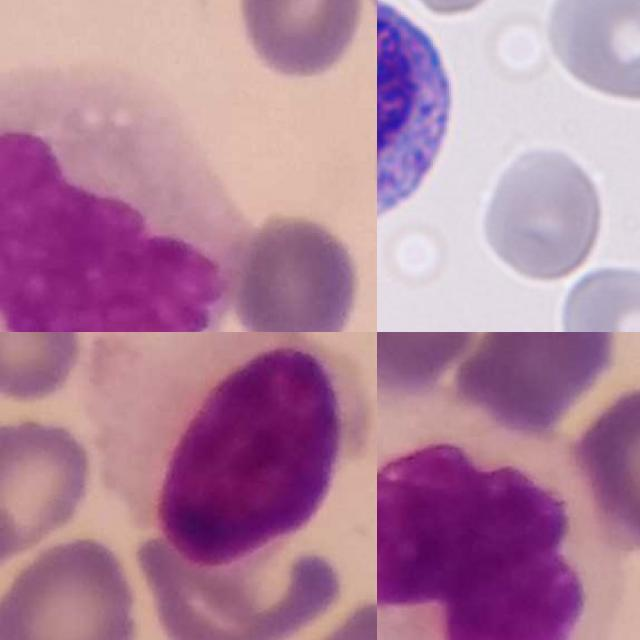Eosinophil: (377, 0, 453, 219)
Lymphocyte: (99, 332, 367, 574)
Monocyte: (0, 65, 250, 332), (377, 392, 624, 640)
RBC: (476, 142, 609, 288), (539, 0, 640, 109), (479, 3, 559, 90), (550, 261, 640, 332)
